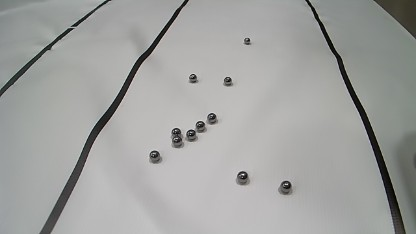ironball: (280, 180, 291, 194), (237, 170, 248, 184), (149, 150, 160, 163), (195, 120, 205, 132), (186, 129, 196, 141), (207, 113, 217, 124), (172, 136, 182, 147), (188, 73, 197, 83), (223, 76, 232, 86), (171, 128, 181, 137), (244, 37, 251, 44)
